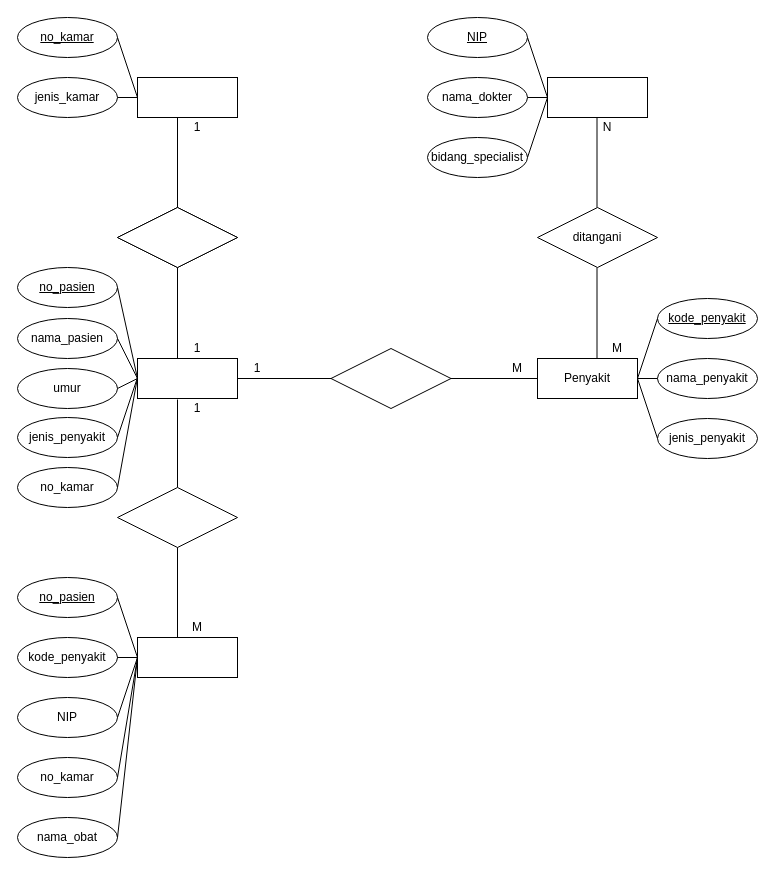
This 775x875 diagram has some shape labels left out. Each missing label, with the box of its shape:
Dokter: (546, 76, 648, 118)
Kamar: (136, 76, 238, 118)
mendapatkan: (116, 486, 238, 548)
menderita: (330, 348, 451, 408)
menempati: (116, 206, 238, 268)
Obat: (136, 636, 238, 678)
Pasien: (136, 358, 238, 398)
